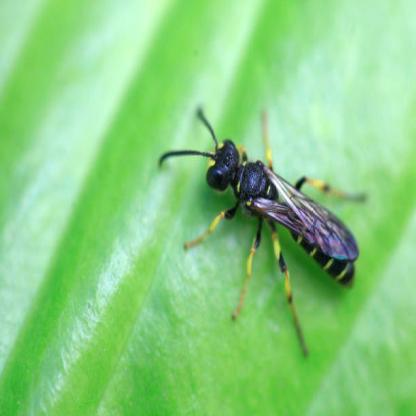sawfly: (155, 97, 373, 356)
